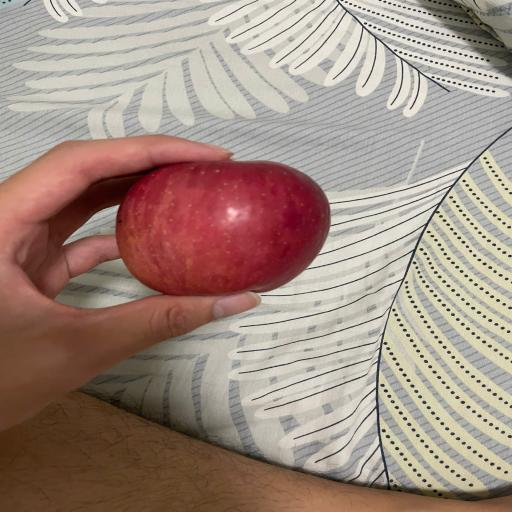apple: (116, 161, 330, 296)
